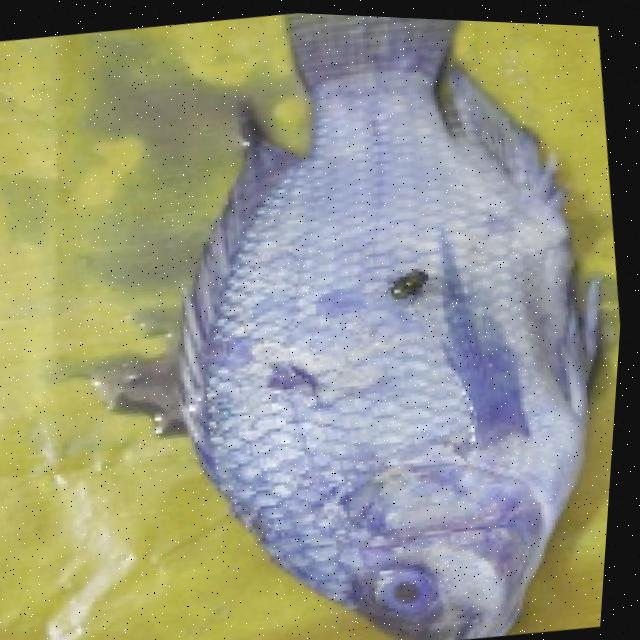Non-Fresh: (182, 87, 636, 640), (369, 547, 461, 626)
